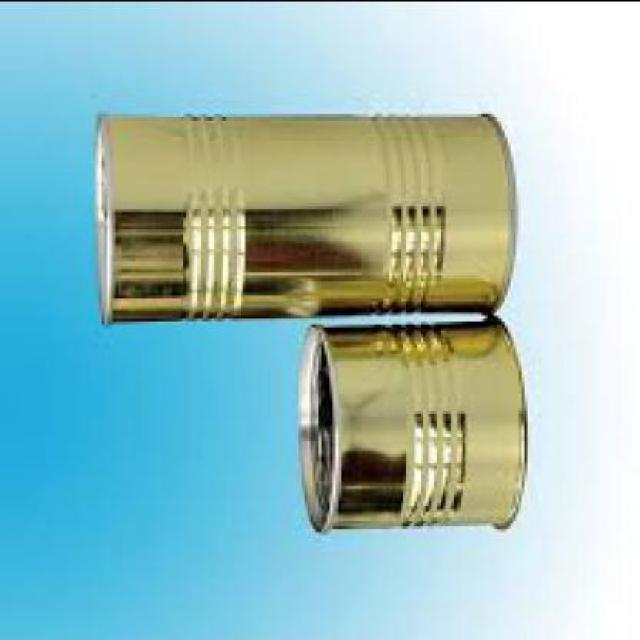METAL: (92, 104, 508, 319), (299, 320, 524, 528)
